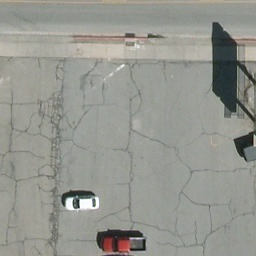car: (63, 196, 100, 211)
pickup: (100, 236, 147, 253)
